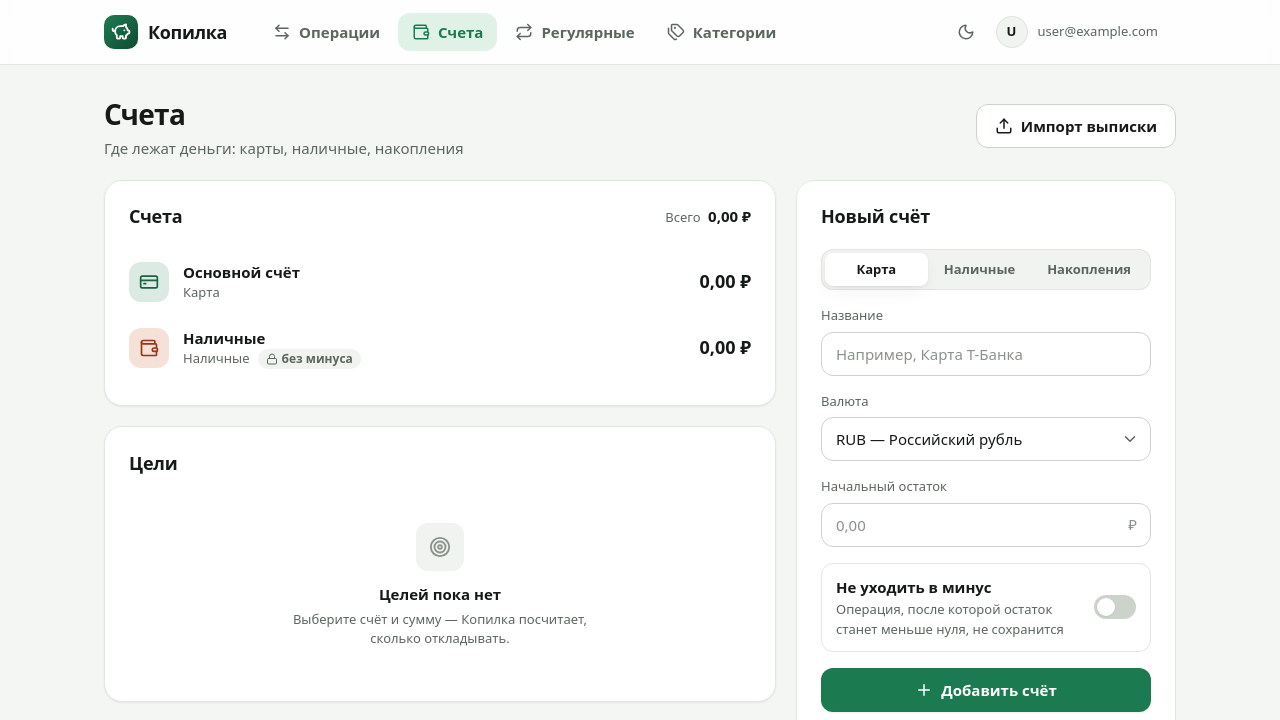
Test: AccountsPage › archive › archives an empty account, which folds away under the list
Click the button "Наличные Наличные без минуса 0,00 ₽" at [149, 348], box [117,314,763,381]
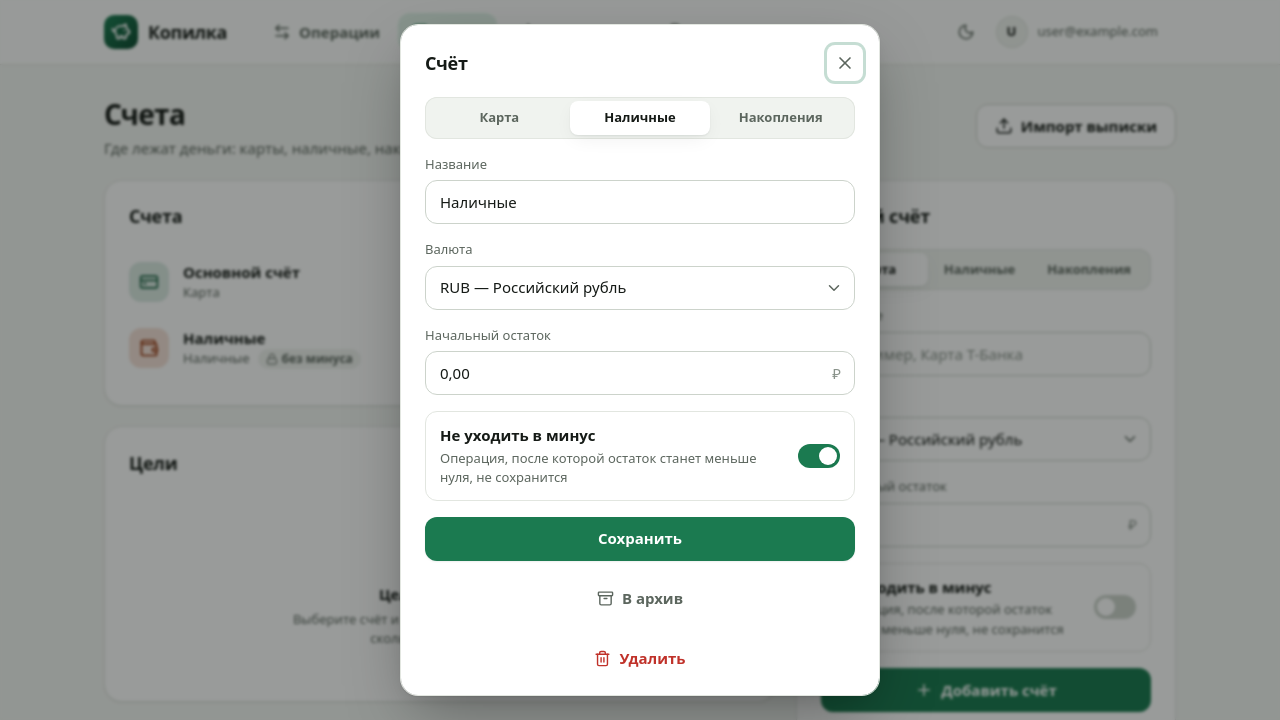
Click the button with aria-label "Отправить в архив" at [640, 598], box [425,576,855,620]
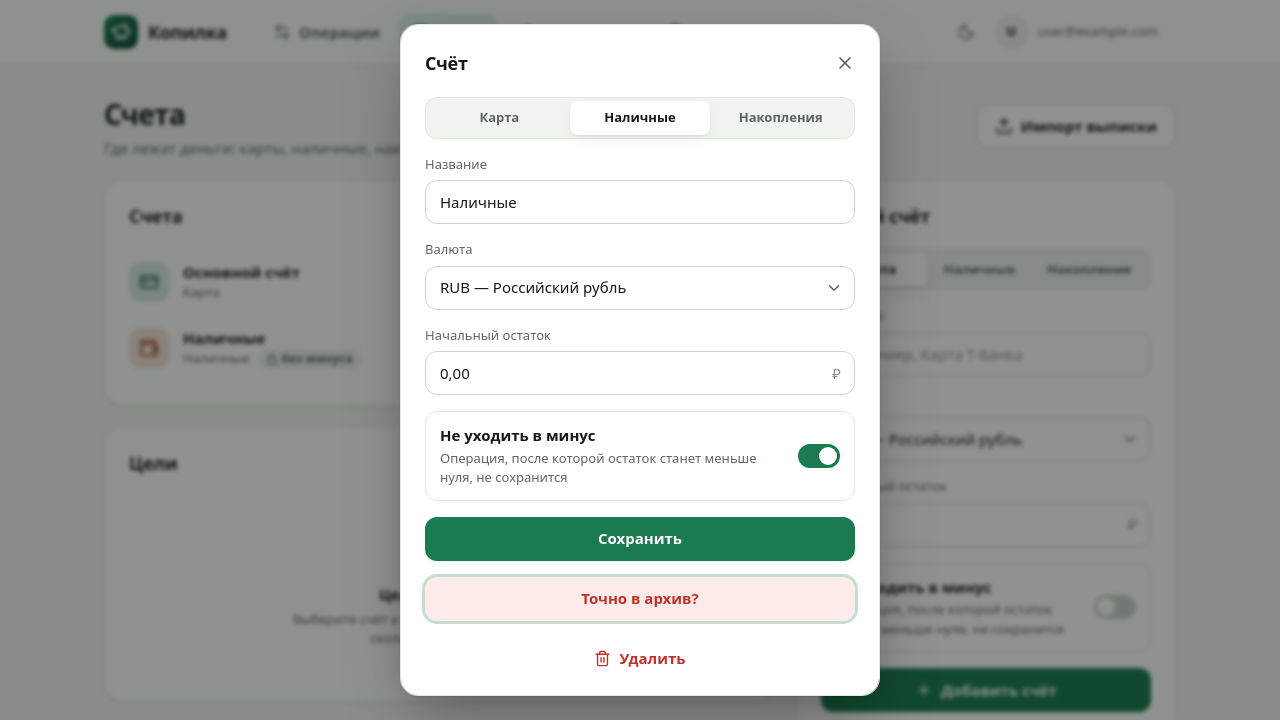
# Twice: it stops the account's recurring payments.
Click the button with aria-label "Подтвердите: Отправить в архив" at [640, 598], box [425,576,855,620]
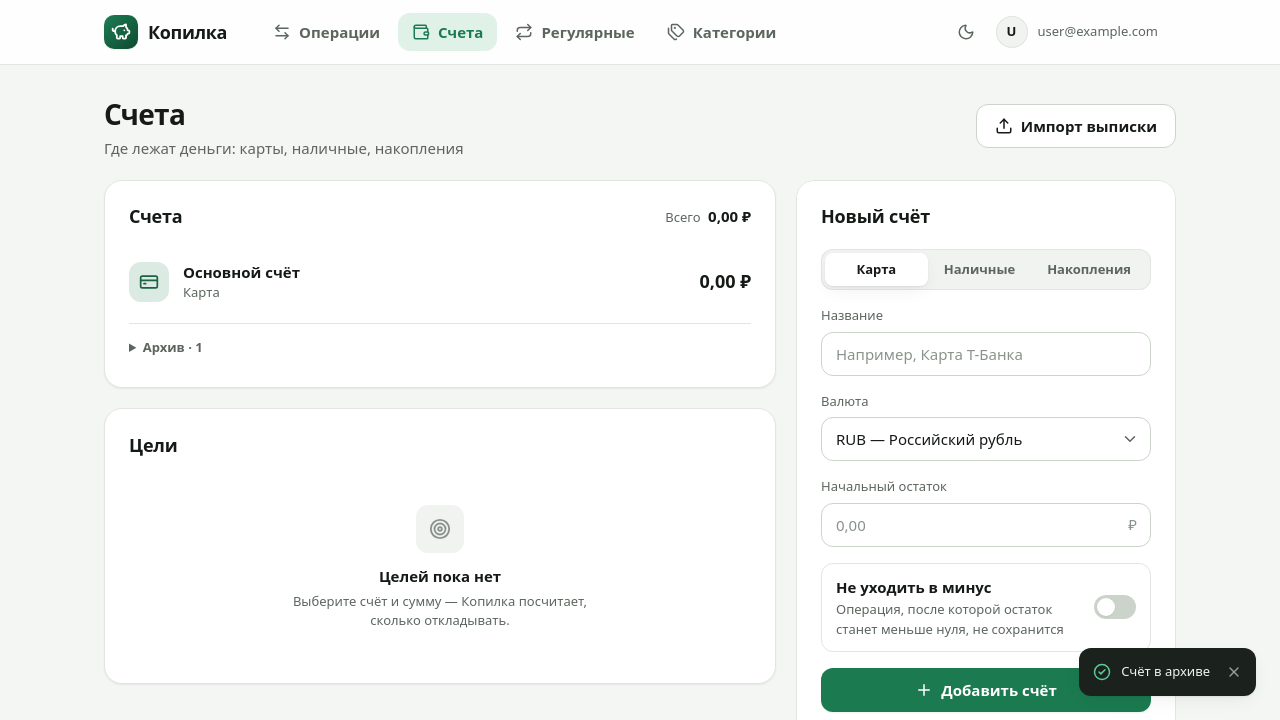
Expected: the text "Счёт в архиве" is shown, [1121,662,1210,682]
